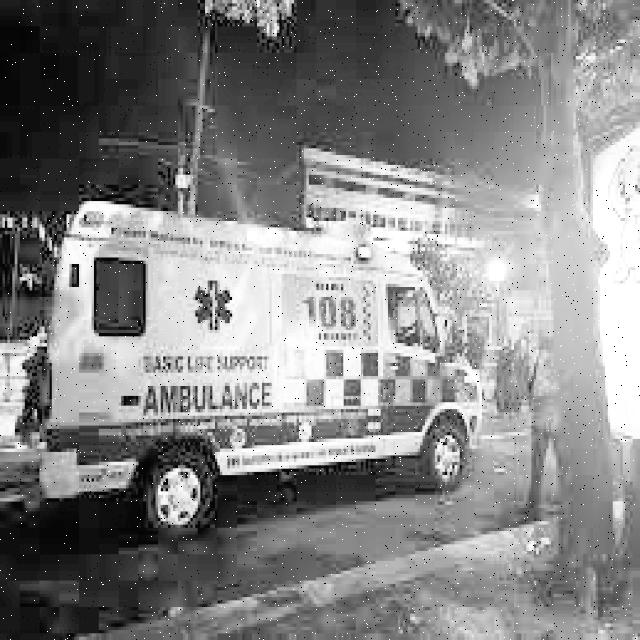Ambulance: (28, 201, 484, 521)
